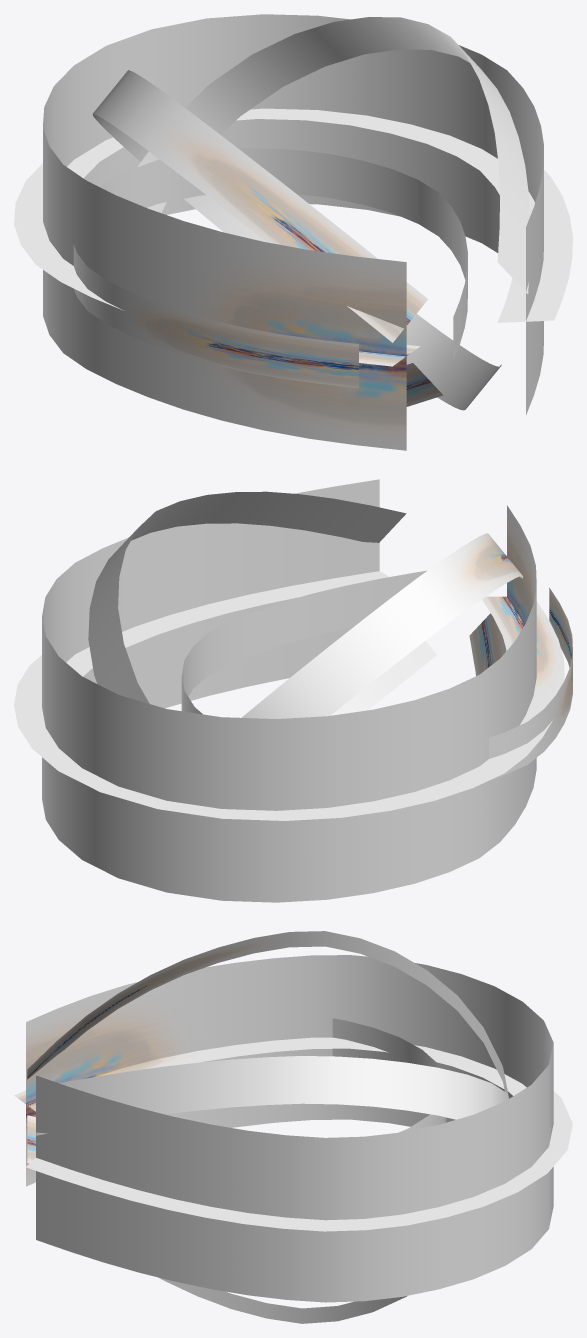
Rendered from Flare2.fbx.
3 views of the same model, one above another, from view 1: azimuth 30°, elevation 25°; view 2: azimuth 150°, elevation 25°; view 3: azimuth 270°, elevation 25° (orthographic). The views are drawn at different scales.
Visible parts, largest first — view 1: Plane.009; view 2: Plane.009; view 3: Plane.009.
Boxes of the visible parts, x1=… form: Plane.009: x1=14, y1=14, x2=572, y2=450; Plane.009: x1=14, y1=479, x2=572, y2=902; Plane.009: x1=14, y1=931, x2=572, y2=1323.
Bounding box in the file's own units: 11431 × 7596 × 13138.
